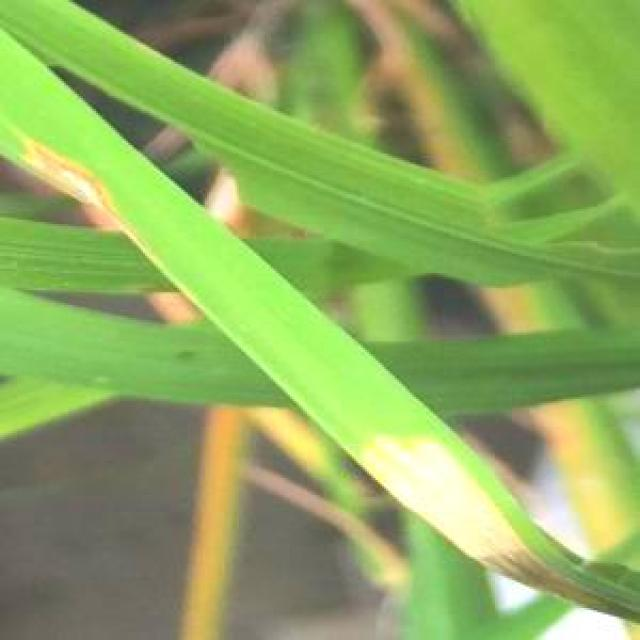Leaf_Blast: (19, 117, 130, 224)
